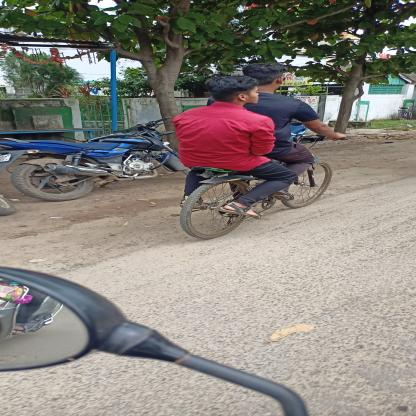bike: (103, 130, 370, 246)
